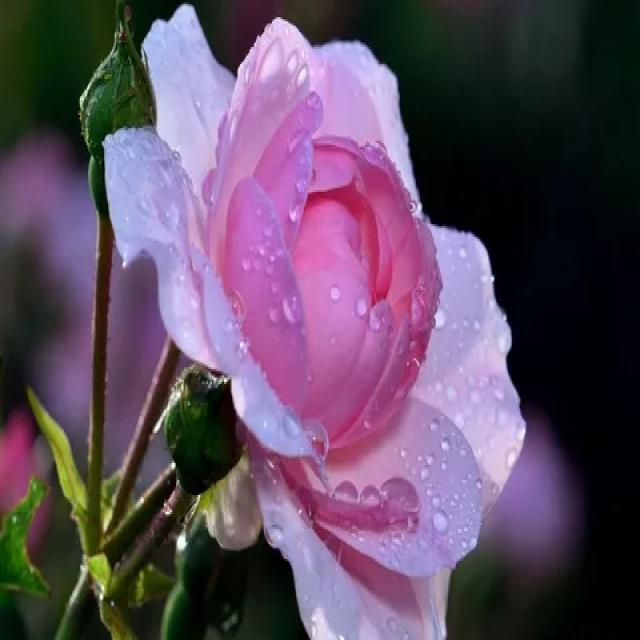rose: (111, 0, 528, 609)
